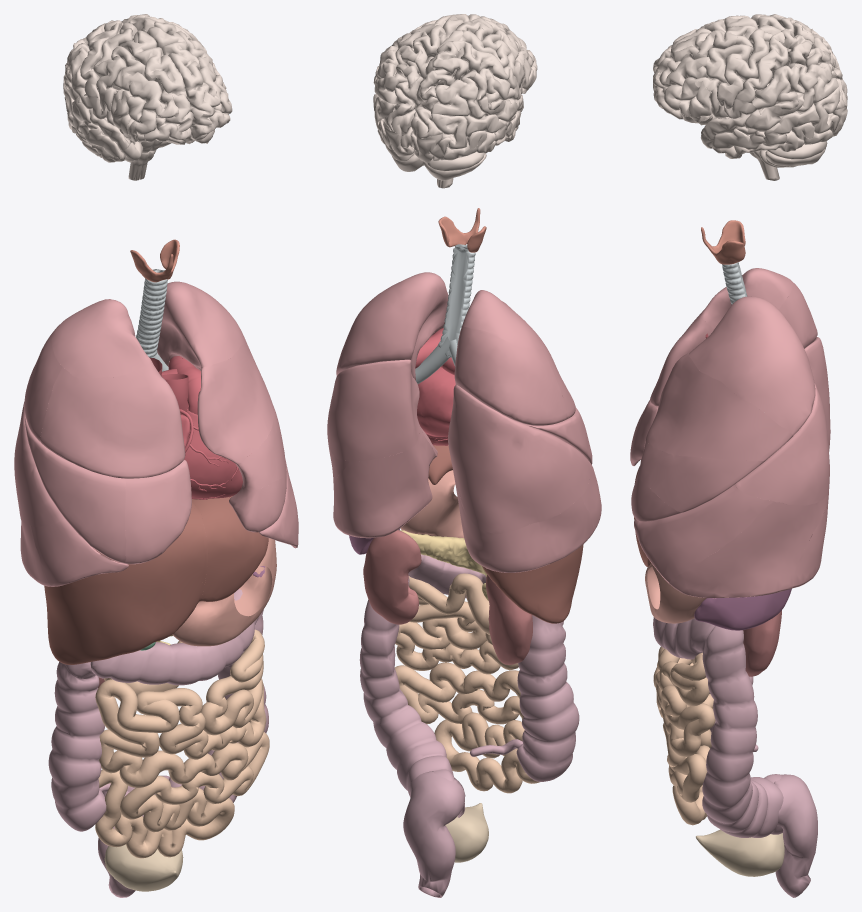
File: atlas.glb
3 renders of one model, left to right at view 1: azimuth 30°, elevation 25°; view 2: azimuth 150°, elevation 25°; view 3: azimuth 270°, elevation 25°, orthographic. The views are drawn at different scales.
Parts seen in each view (by area): view 1: lungR, smallIntestine, brain, liver, lungL, colon, heart, stomach, bladder, airway, thyroid; view 2: lungR, lungL, colon, brain, smallIntestine, liver, kidneyL, airway, heart, kidneyR, stomach, bladder (+2 smaller); view 3: lungL, brain, colon, smallIntestine, lungR, bladder, spleen, stomach, kidneyL, thyroid, airway.
Boxes of the visible parts, x1,y1,x2,y2 form: lungR: [14, 299, 191, 586]; smallIntestine: [95, 629, 269, 858]; brain: [63, 14, 232, 180]; liver: [44, 496, 268, 664]; lungL: [157, 281, 298, 548]; colon: [48, 589, 268, 897]; heart: [150, 356, 242, 499]; stomach: [172, 538, 276, 646]; bladder: [104, 844, 183, 891]; airway: [136, 269, 168, 371]; thyroid: [130, 239, 179, 282]; lungR: [448, 290, 601, 572]; lungL: [327, 272, 448, 538]; colon: [359, 554, 579, 897]; brain: [373, 14, 537, 188]; smallIntestine: [395, 573, 539, 793]; liver: [428, 445, 583, 623]; kidneyL: [363, 530, 421, 624]; airway: [415, 244, 475, 383]; heart: [415, 328, 455, 445]; kidneyR: [486, 575, 532, 664]; stomach: [400, 470, 463, 537]; bladder: [445, 803, 488, 862]; lungL: [631, 296, 829, 598]; brain: [653, 14, 847, 180]; colon: [653, 617, 817, 897]; smallIntestine: [653, 646, 715, 825]; lungR: [630, 268, 830, 465]; bladder: [696, 829, 784, 876]; spleen: [694, 588, 791, 630]; stomach: [645, 563, 706, 623]; kidneyL: [743, 610, 781, 676]; thyroid: [701, 220, 745, 264]; airway: [722, 262, 747, 304].
Bounding box in the file's own units: 0.261 × 0.8959 × 0.2016.
